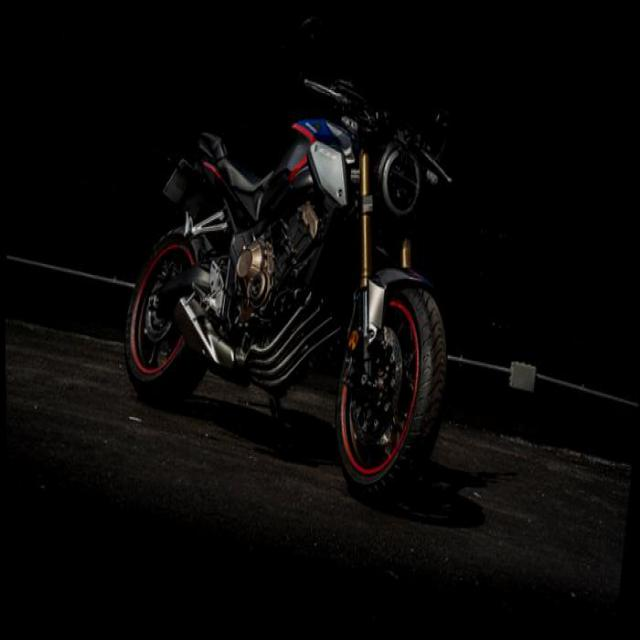CB650R: (106, 62, 477, 544)
